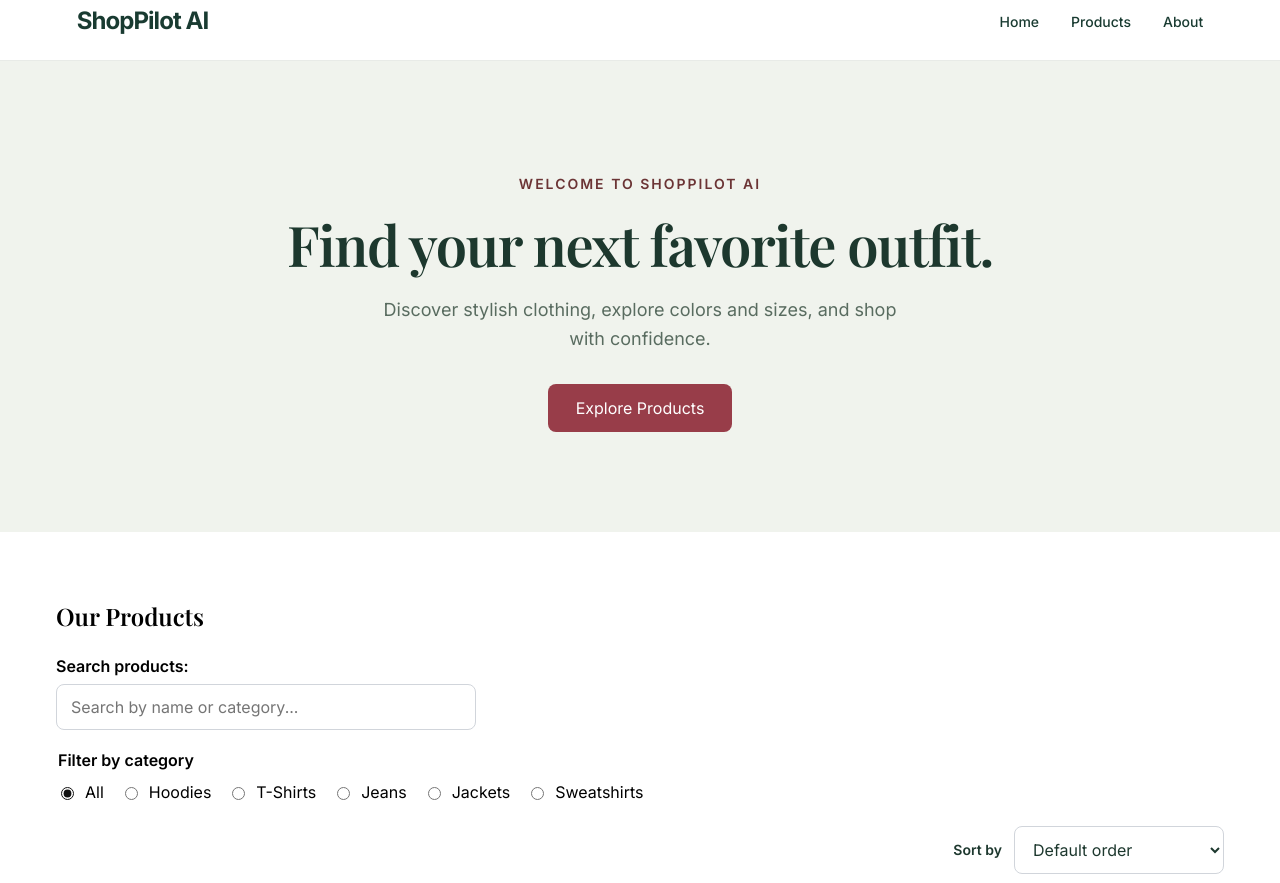
it: Product catalog › restores all products when All is selected
The width and height of the screenshot is (1280, 883).
Note: ACT 1: Select Hoodies
Click the radio button labelled "Hoodies" at point(131, 793), box x1=125 y1=787 x2=138 y2=800
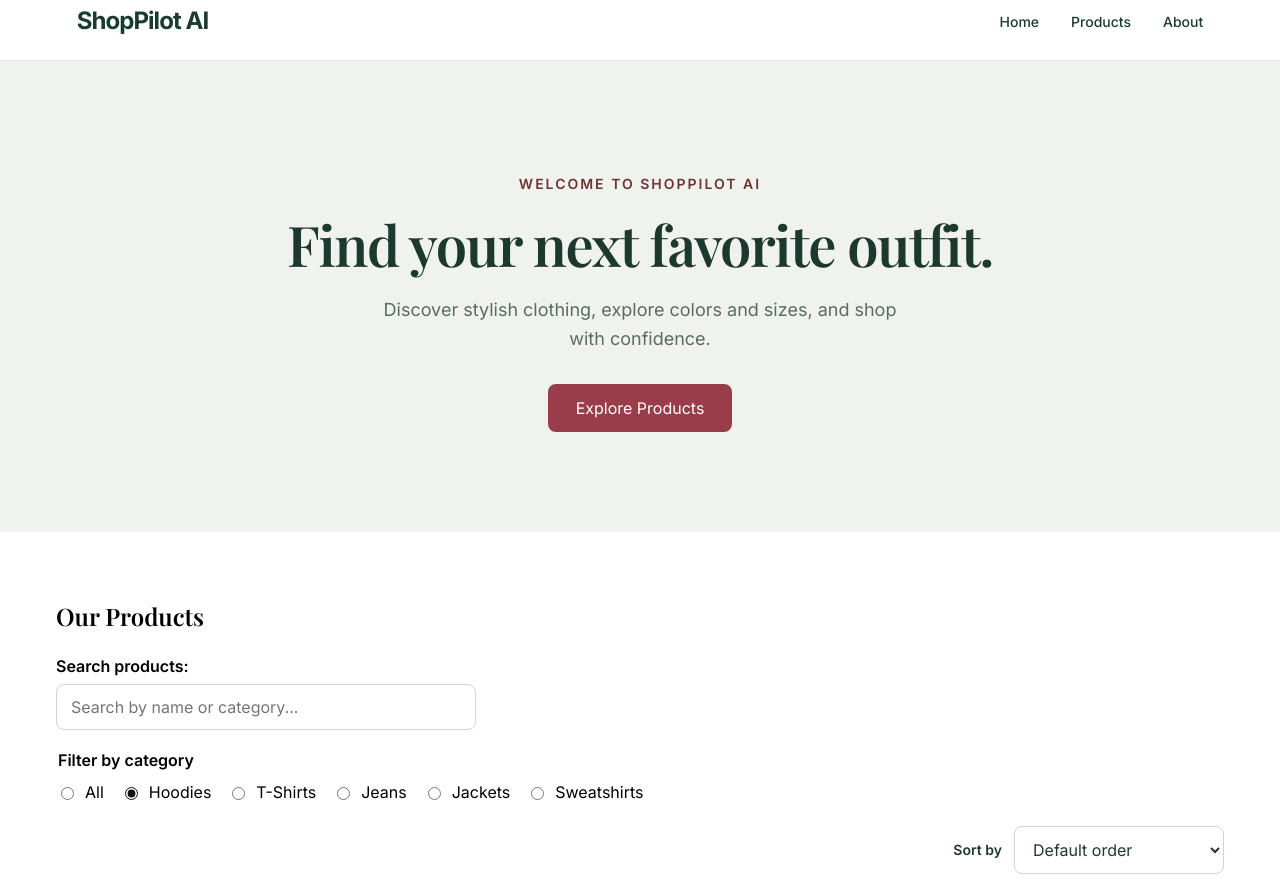
Note: ACT 2: Reset to All
Click the radio button labelled "All" at point(68, 793), box x1=61 y1=787 x2=74 y2=800
(page scrolled)
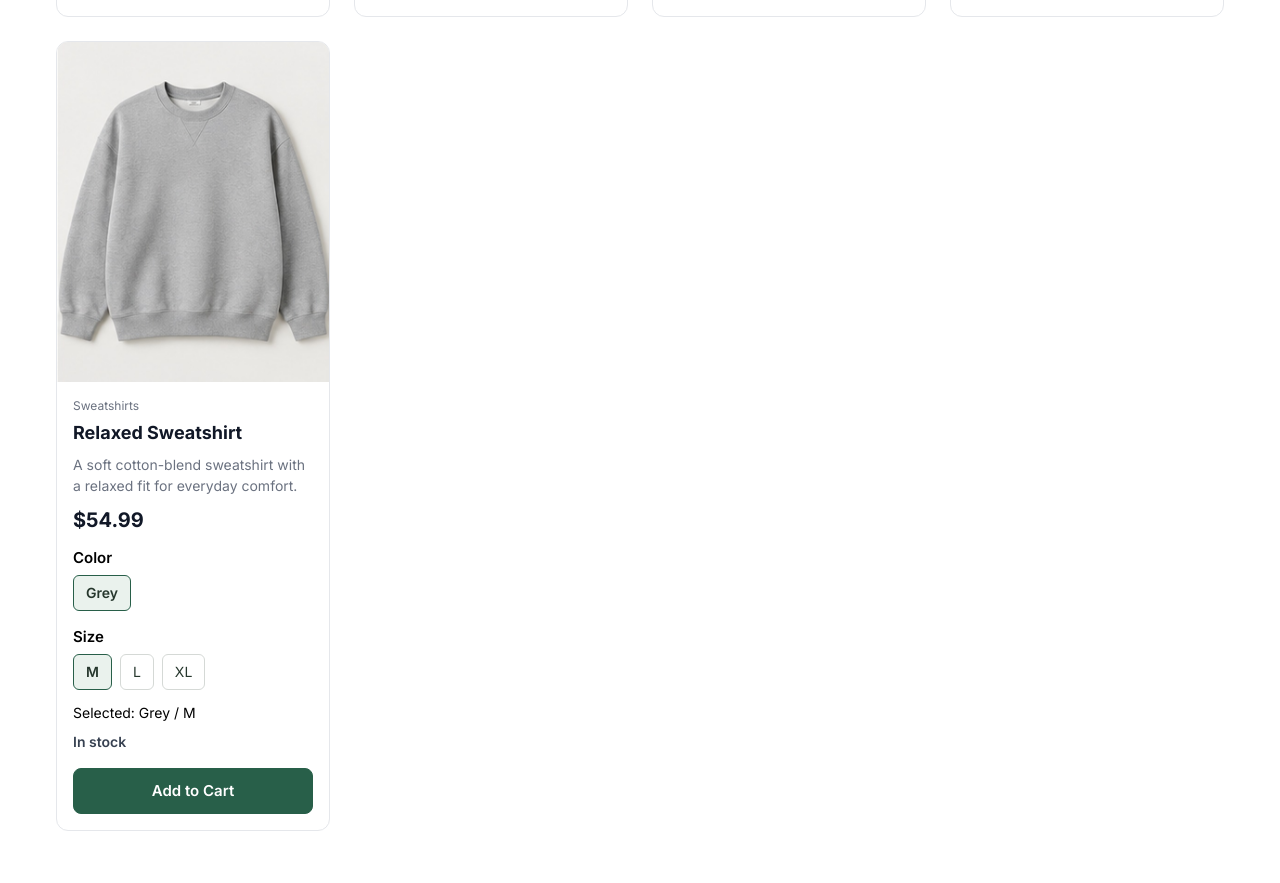
Check: the heading "Relaxed Sweatshirt" is shown, box x1=73 y1=422 x2=242 y2=444
